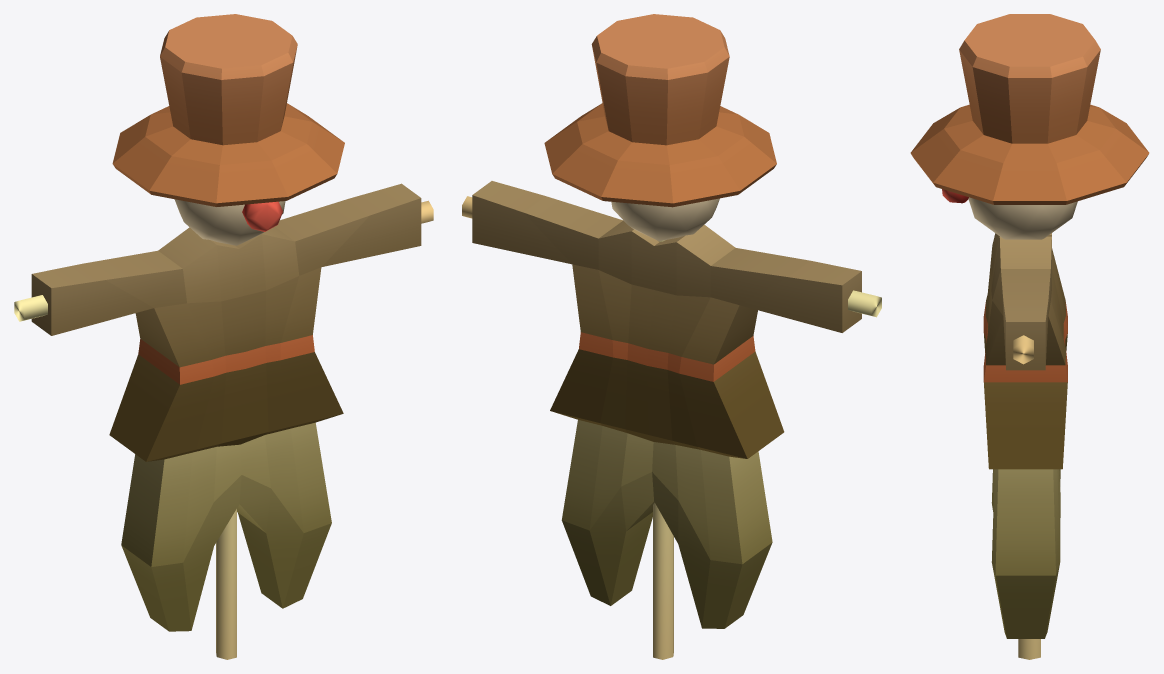
File: Scarecrow-Tomato.fbx
3 views of the same model, side by side, from view 1: azimuth 30°, elevation 25°; view 2: azimuth 150°, elevation 25°; view 3: azimuth 270°, elevation 25° (orthographic).
Parts seen in each view (by area): view 1: Scarecrow-Tomato.002; view 2: Scarecrow-Tomato.002; view 3: Scarecrow-Tomato.002.
Part boxes in pixels (box(x1,y1,x2,y2)): Scarecrow-Tomato.002: box(14, 14, 433, 659); Scarecrow-Tomato.002: box(462, 14, 881, 659); Scarecrow-Tomato.002: box(910, 14, 1149, 659).
Size of the model in its own units: 1.5 by 2.14 by 0.7544.
1 material, 1 textured.
